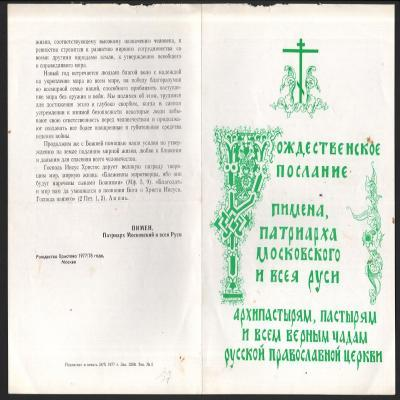document: (7, 3, 396, 395)
